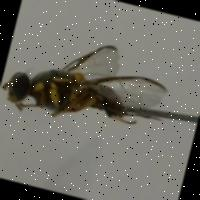Oriental-fruit-fly: (0, 15, 190, 164)
